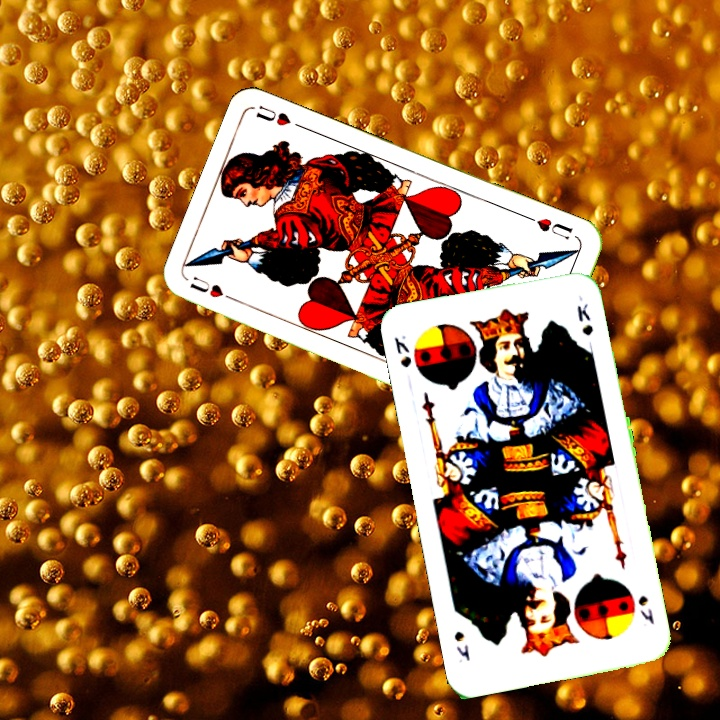HU: (186, 272, 241, 305), (522, 212, 575, 242)
SK: (390, 331, 414, 370), (634, 591, 657, 627)
